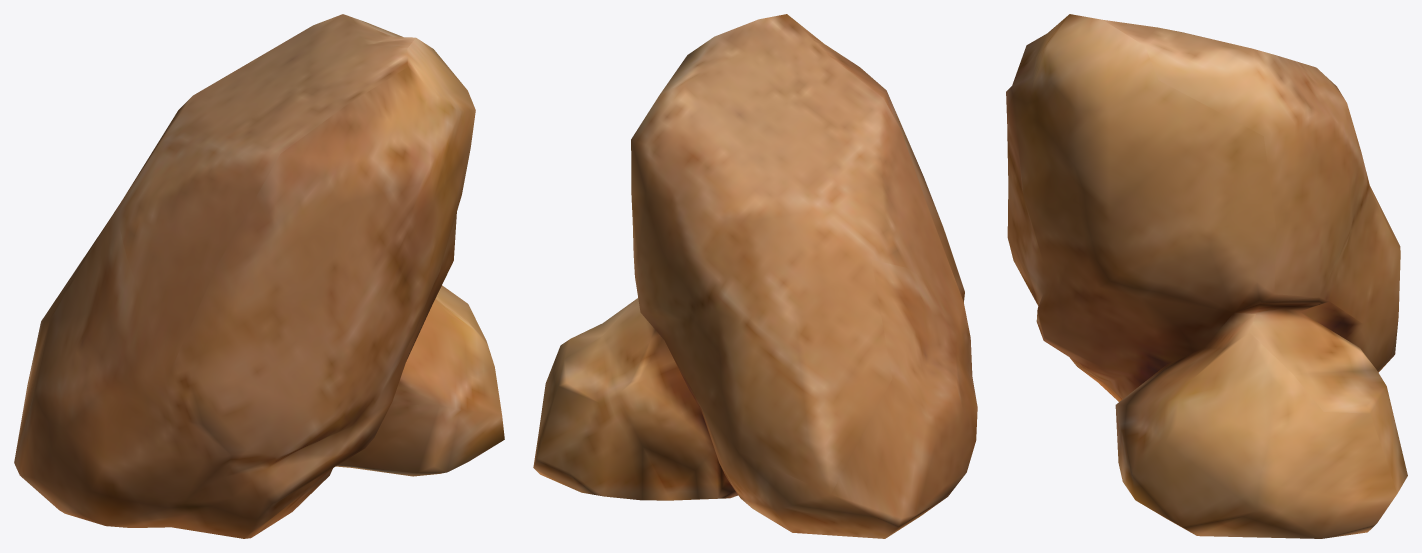
The model's file is Piedras_Apiladas_Medianas.glb.
3 views of the same model, side by side, from view 1: azimuth 30°, elevation 25°; view 2: azimuth 150°, elevation 25°; view 3: azimuth 270°, elevation 25° (orthographic). The views are drawn at different scales.
Parts seen in each view (by area): view 1: Piedras Apiladas Medianas; view 2: Piedras Apiladas Medianas; view 3: Piedras Apiladas Medianas.
Boxes of the visible parts, <box> form: Piedras Apiladas Medianas: <box>14,14,504,538</box>; Piedras Apiladas Medianas: <box>533,14,977,538</box>; Piedras Apiladas Medianas: <box>1006,14,1407,538</box>.
Size of the model in its own units: 0.1217 by 0.1177 by 0.0943.
Materials: 1 (1 with a texture image).
